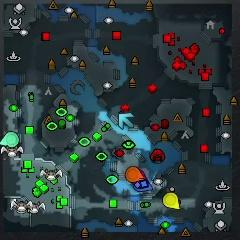p1: (132, 181, 153, 192)
p2: (0, 132, 20, 147)
p3: (139, 169, 148, 181)
p4: (163, 192, 180, 209)
p5: (126, 167, 144, 182)
x3: (118, 112, 134, 129)
